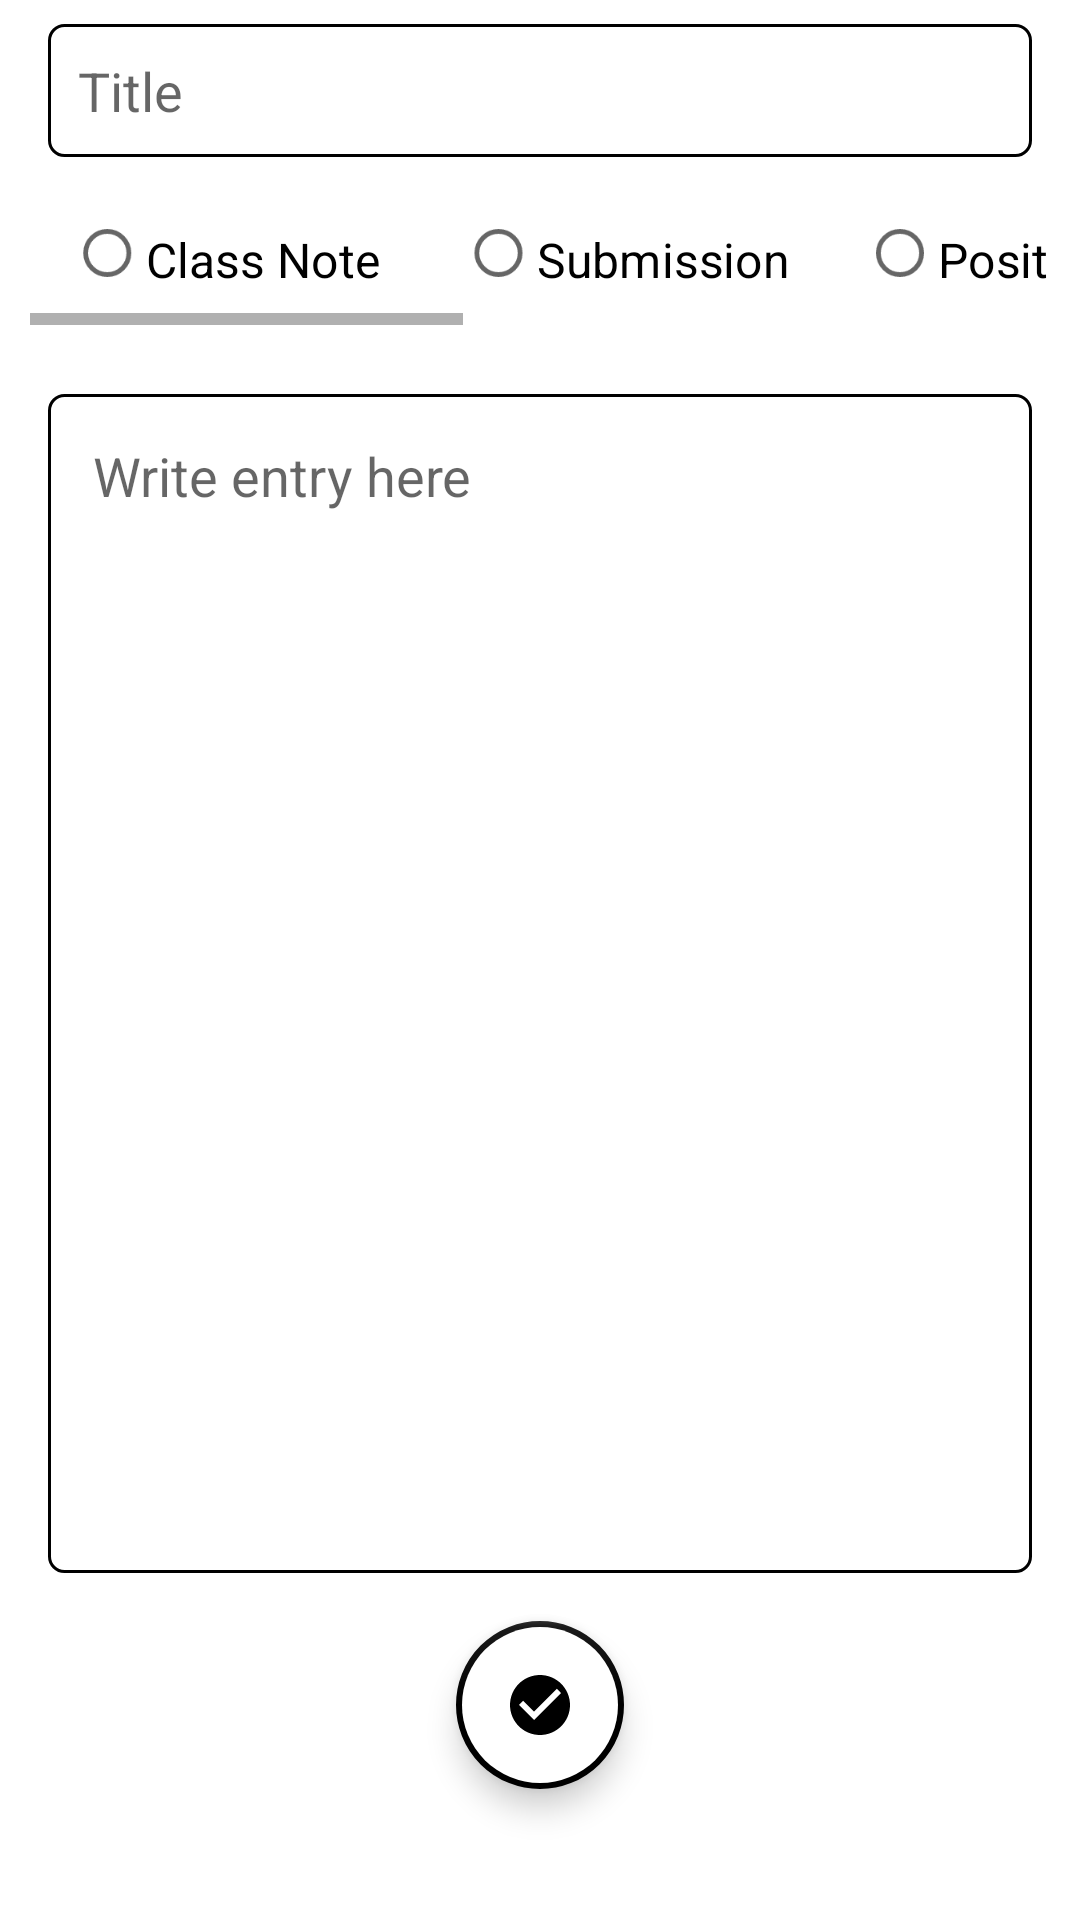

Icons on this 1080×1920 Android screen, each with its box as (x1,y1,x2,y2):
Tick to add new note: (456,1621,624,1789)
